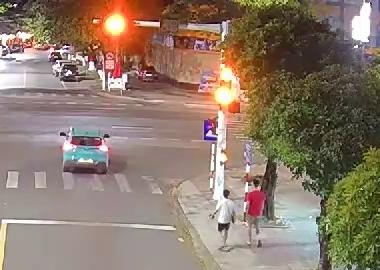stop_line: (2, 218, 176, 230)
yellow_light: (102, 12, 126, 36), (213, 86, 235, 105)
